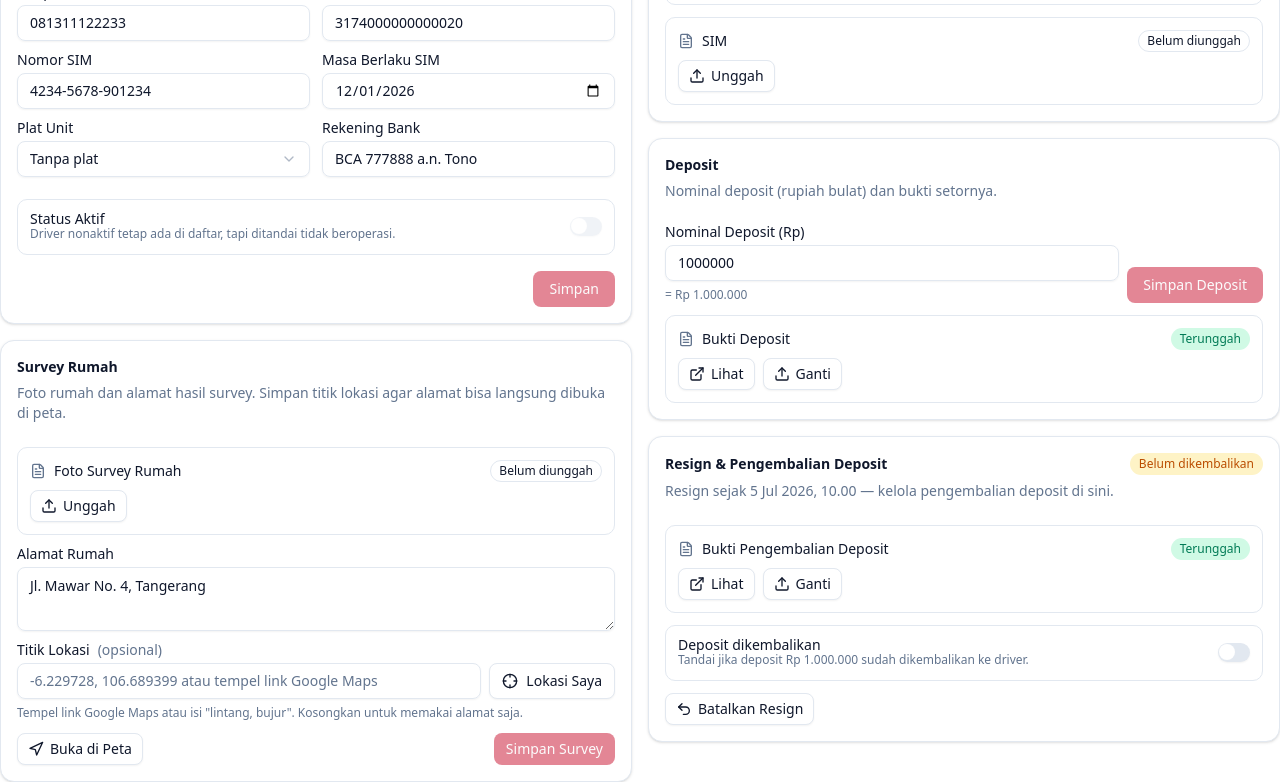
Test: Halaman edit driver — resign & pengembalian deposit › records the deposit return when the proof is already uploaded
(page scrolled)
Click the switch named "Deposit dikembalikan" in the row of "Deposit dikembalikan". click: (1234, 652)
box: [1218,643,1250,662]
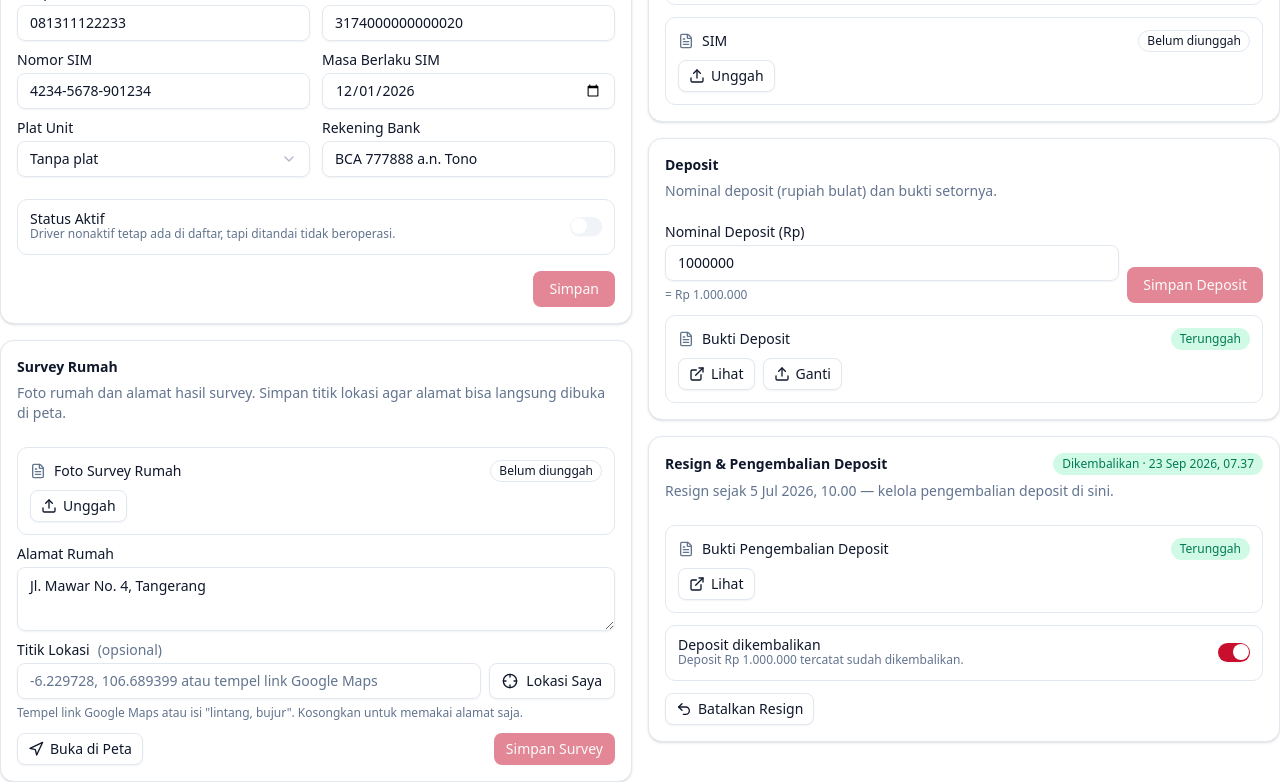
Result: the text "Dikembalikan · 23 Sep 2026, 07.37" is shown at [1053,452,1263,474]
